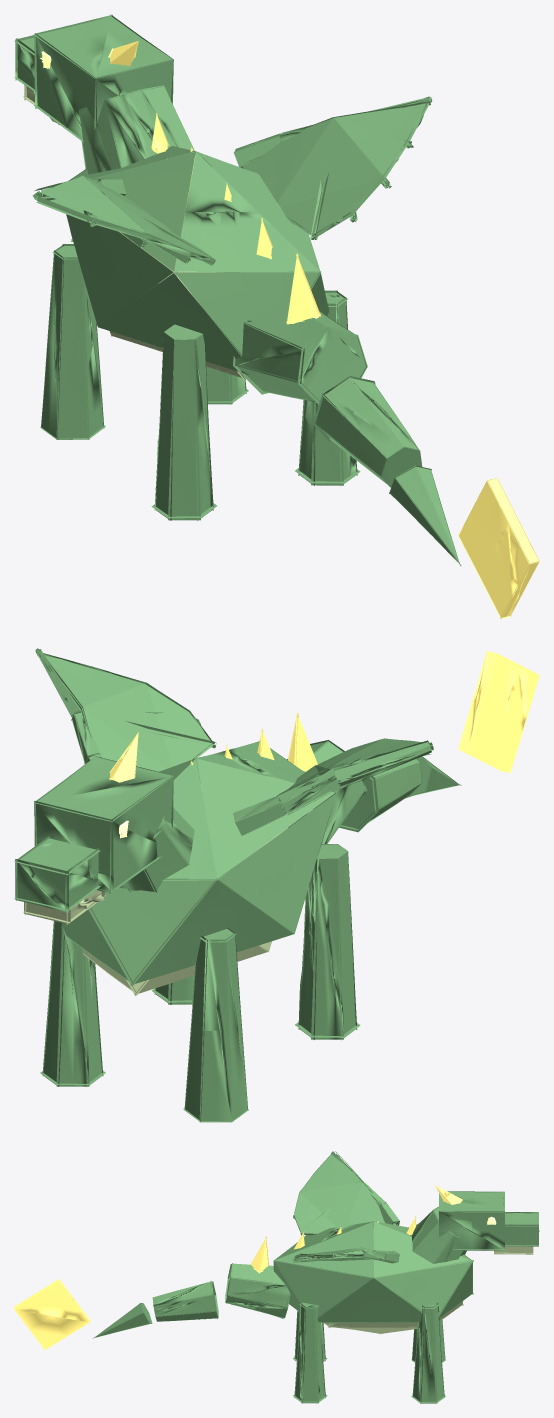
The model's file is dragon_hatchling.glb.
3 renders of one model, top to bottom at view 1: azimuth 30°, elevation 25°; view 2: azimuth 150°, elevation 25°; view 3: azimuth 270°, elevation 25°, orthographic. The views are drawn at different scales.
Parts seen in each view (by area): view 1: DragonBody; view 2: DragonBody; view 3: DragonBody.
Part boxes in pixels (x1,y1,x2,y2): DragonBody: [14, 14, 539, 619]; DragonBody: [14, 648, 539, 1122]; DragonBody: [14, 1151, 539, 1403].
Bounding box in the file's own units: 1.6 × 1.42 × 3.45.
